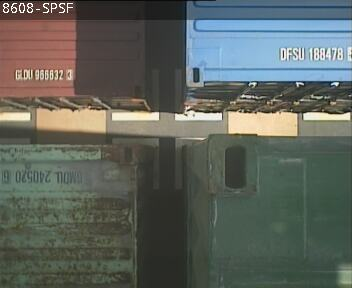groundmarker_1: (110, 70, 222, 120), (112, 137, 196, 188)
